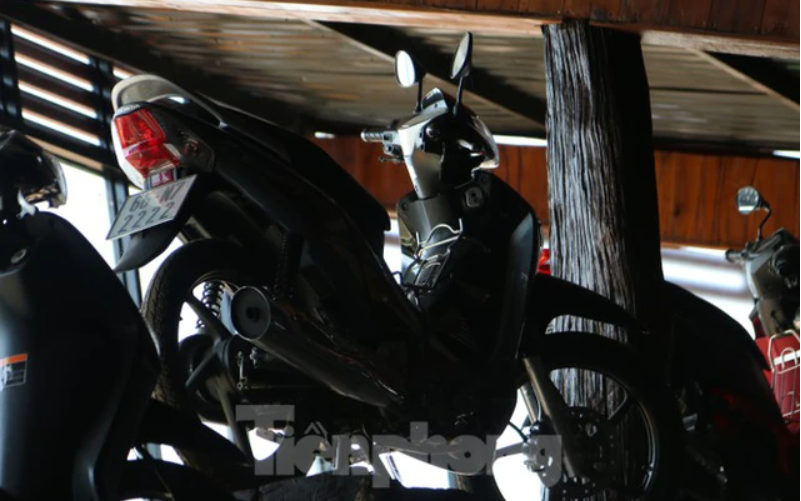bien_so: (101, 169, 199, 245)
